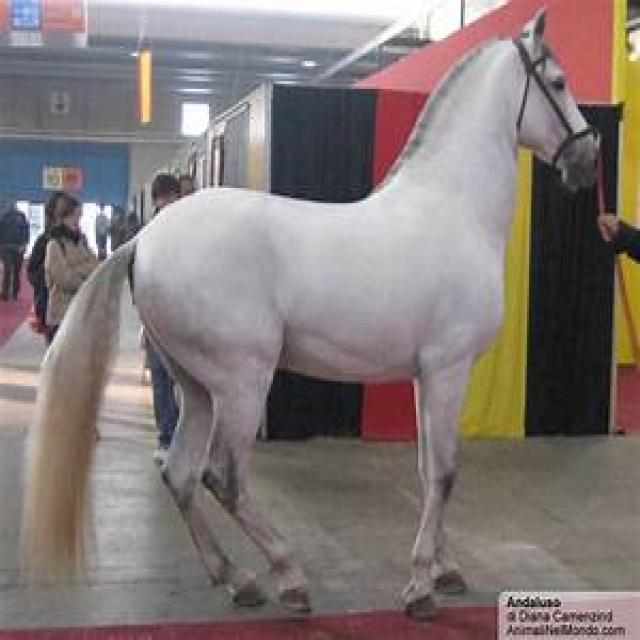animal: (25, 8, 604, 619)
